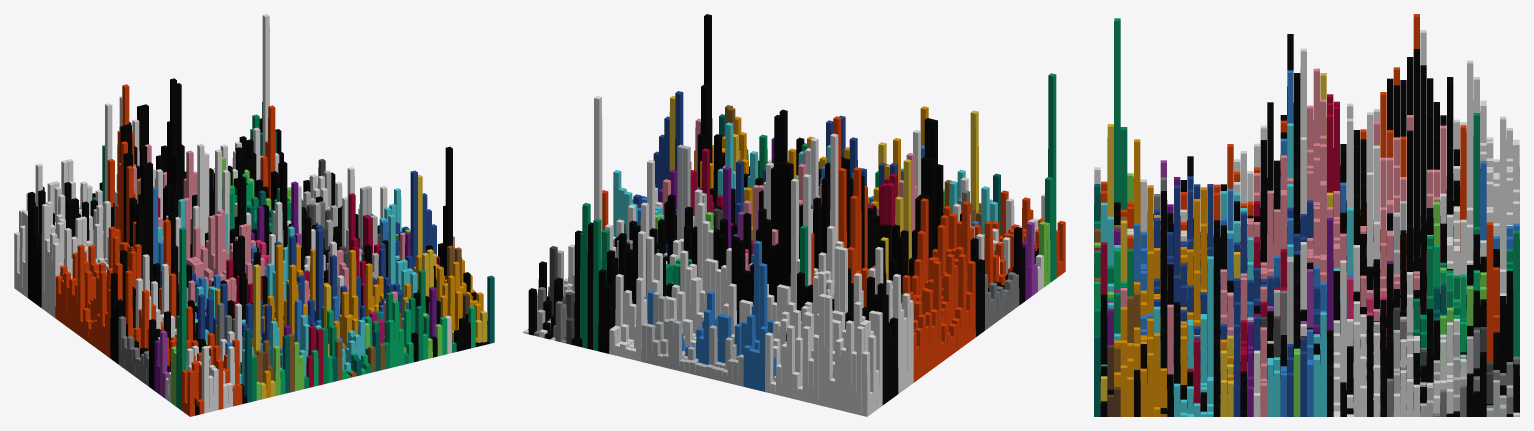
Rendered from r-place.glb.
3 renders of one model, left to right at view 1: azimuth 30°, elevation 25°; view 2: azimuth 150°, elevation 25°; view 3: azimuth 270°, elevation 25°, orthographic. The views are drawn at different scales.
Visible parts, largest first — view 1: rPlaceGrid; view 2: rPlaceGrid; view 3: rPlaceGrid.
Boxes of the visible parts, x1,y1,x2,y2 form: rPlaceGrid: [14, 14, 494, 416]; rPlaceGrid: [523, 14, 1065, 416]; rPlaceGrid: [1094, 14, 1519, 416].
Bounding box in the file's own units: 0.32 × 0.2187 × 0.32.
Materials: 1 (1 with a texture image).
